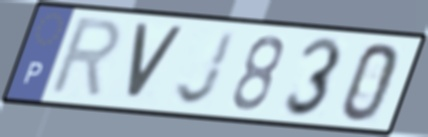0: (338, 41, 400, 124)
3: (281, 35, 347, 120)
8: (231, 32, 286, 113)
J: (172, 28, 240, 108)
R: (44, 15, 127, 103)
V: (123, 20, 187, 105)
